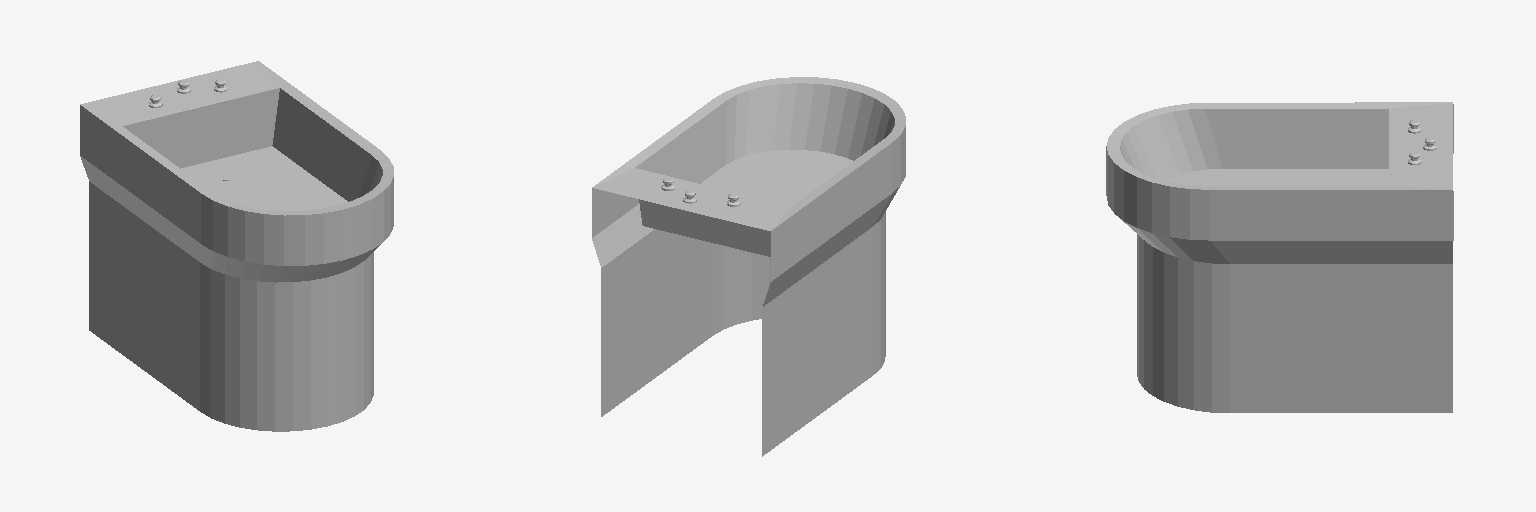
File: Bidet.obj
3 views of the same model, side by side, from view 1: azimuth 30°, elevation 25°; view 2: azimuth 150°, elevation 25°; view 3: azimuth 270°, elevation 25° (orthographic).
Visible parts, largest first — view 1: Bidet_Cube.001; view 2: Bidet_Cube.001; view 3: Bidet_Cube.001.
Part boxes in pixels (bbox=[...]): Bidet_Cube.001: bbox=[80, 61, 393, 431]; Bidet_Cube.001: bbox=[592, 77, 905, 456]; Bidet_Cube.001: bbox=[1106, 102, 1453, 412].
Bounding box in the file's own units: 2.22 × 2.81 × 3.73.